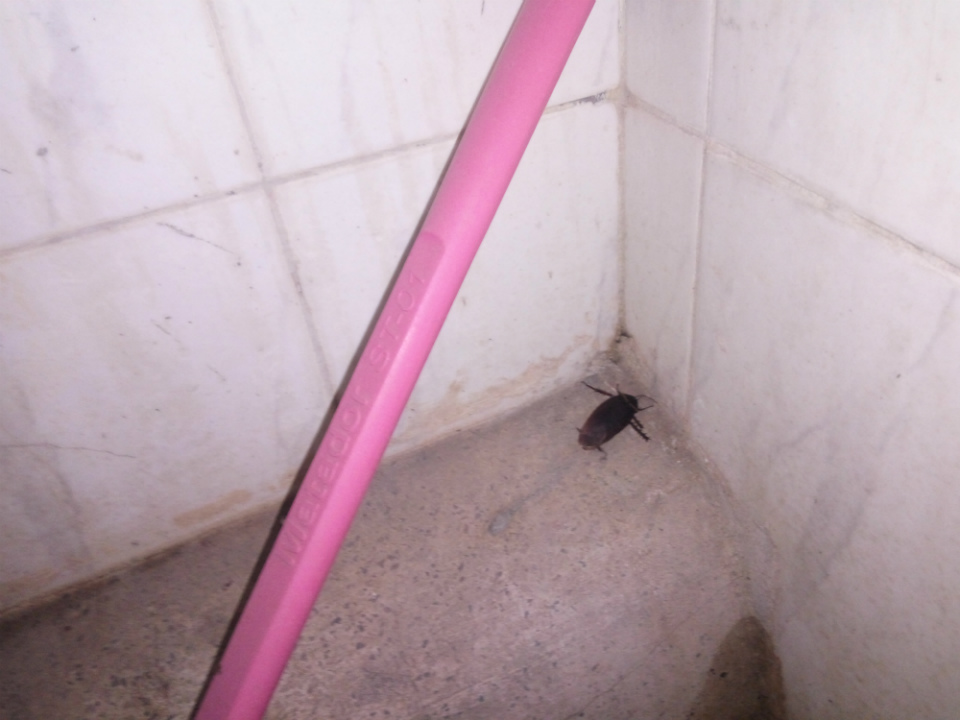cockroach: (536, 355, 692, 486)
